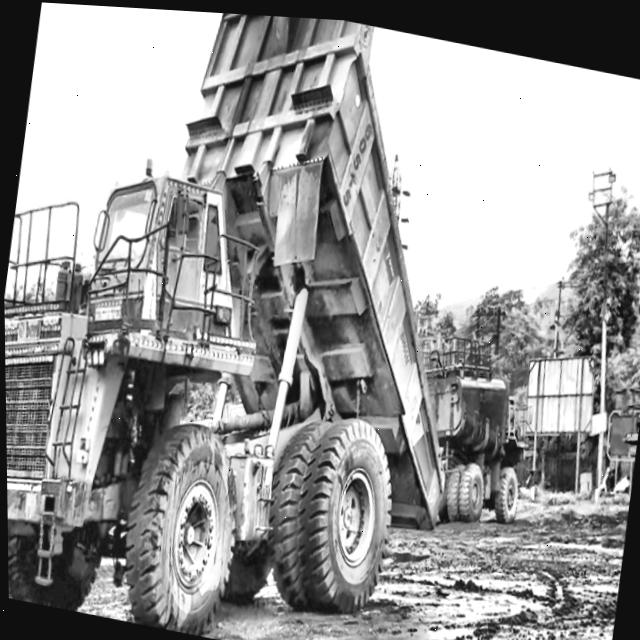dump_truck: (0, 0, 502, 640)
